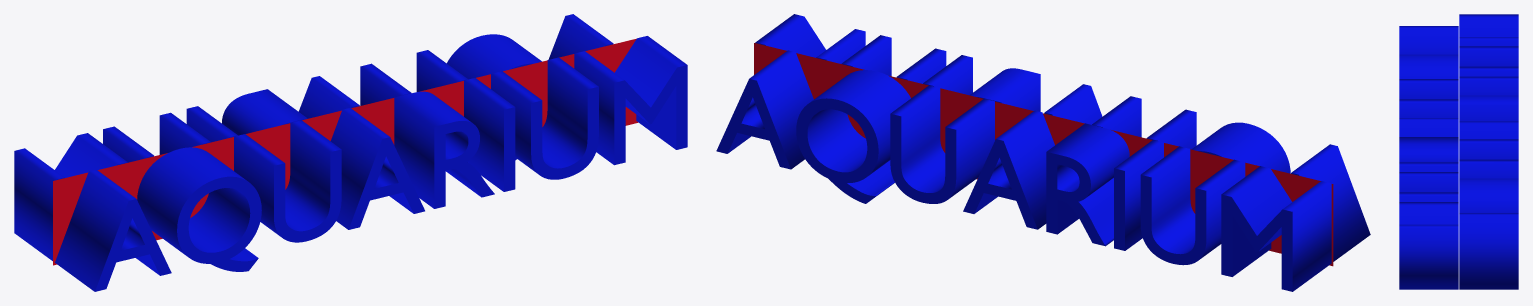
The picture shows the model from 3 angles, left to right: view 1: azimuth 30°, elevation 25°; view 2: azimuth 150°, elevation 25°; view 3: azimuth 270°, elevation 25°; orthographic projection. The views are drawn at different scales.
Visible parts, largest first — view 1: Text; view 2: Text; view 3: Text.
Part boxes in pixels (bbox=[...]): Text: bbox=[14, 14, 687, 291]; Text: bbox=[716, 14, 1370, 291]; Text: bbox=[1399, 14, 1518, 289].
Bounding box in the file's own units: 516 × 83 × 121.
